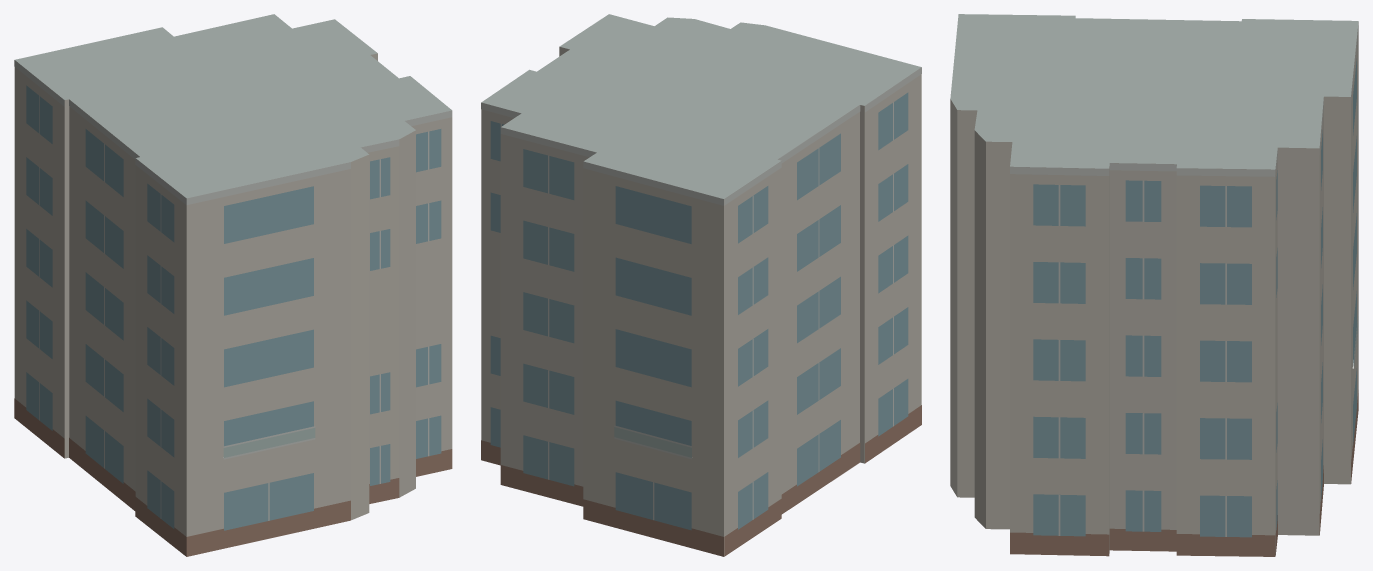
File: survey-upis-32663284.glb
The picture shows the model from 3 angles, left to right: view 1: azimuth 30°, elevation 25°; view 2: azimuth 150°, elevation 25°; view 3: azimuth 270°, elevation 25°; orthographic projection. The views are drawn at different scales.
Parts seen in each view (by area): view 1: survey-upis-32663284.tmp; view 2: survey-upis-32663284.tmp; view 3: survey-upis-32663284.tmp.
Boxes of the visible parts, left/top/right/bottom form: survey-upis-32663284.tmp: left=14, top=14, right=452, bottom=556; survey-upis-32663284.tmp: left=481, top=14, right=921, bottom=556; survey-upis-32663284.tmp: left=950, top=14, right=1358, bottom=556.
Bounding box in the file's own units: 11.12 × 12.9 × 12.33.
